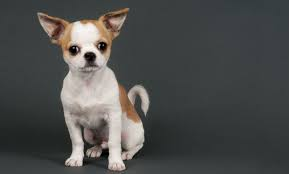chihuahua: (28, 7, 163, 163)
